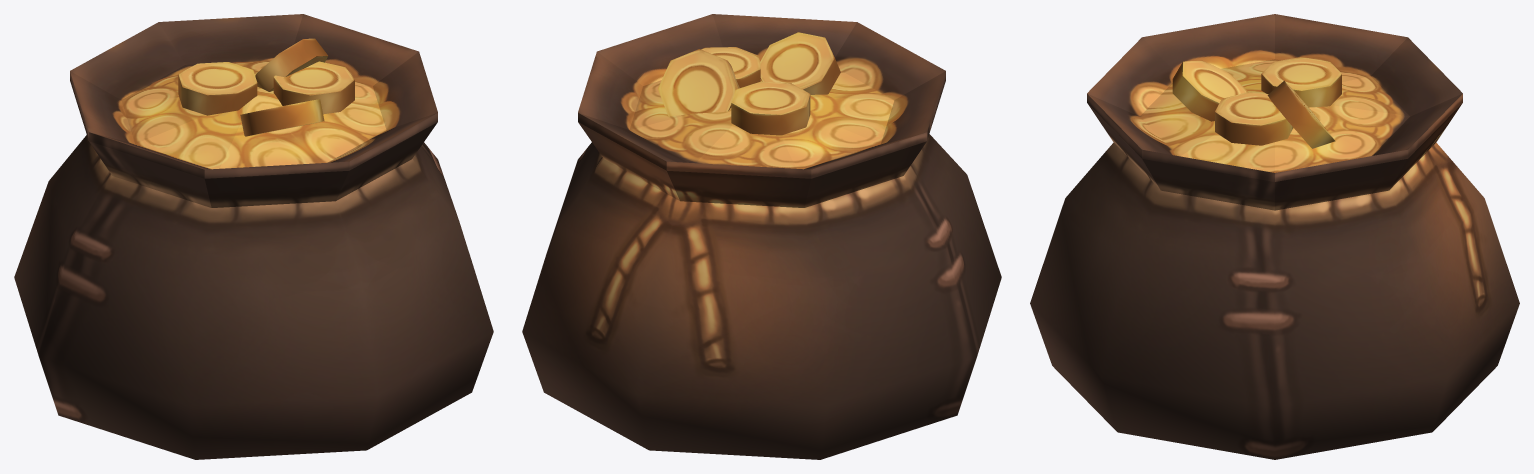
The model's file is GAM0110002.fbx.
3 renders of one model, left to right at view 1: azimuth 30°, elevation 25°; view 2: azimuth 150°, elevation 25°; view 3: azimuth 270°, elevation 25°, orthographic.
Visible parts, largest first — view 1: smGAM0110002; view 2: smGAM0110002; view 3: smGAM0110002.
Boxes of the visible parts, x1,y1,x2,y2 form: smGAM0110002: (14,14,493,459); smGAM0110002: (522,14,1001,459); smGAM0110002: (1030,14,1519,459).
Bounding box in the file's own units: 21.63 × 16.3 × 21.63.
1 material, 1 textured.
